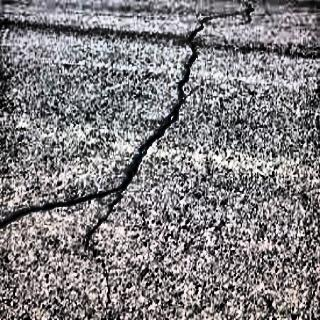crack: (8, 19, 228, 298)
